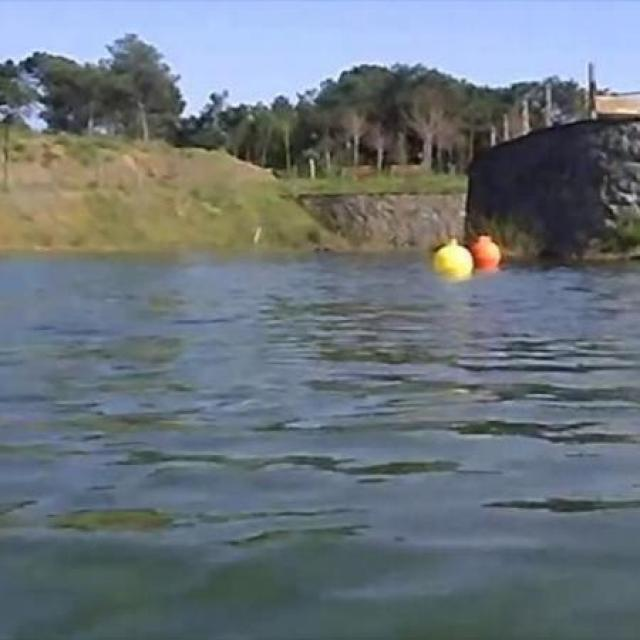buoy: (433, 241, 473, 278), (471, 234, 503, 267)
